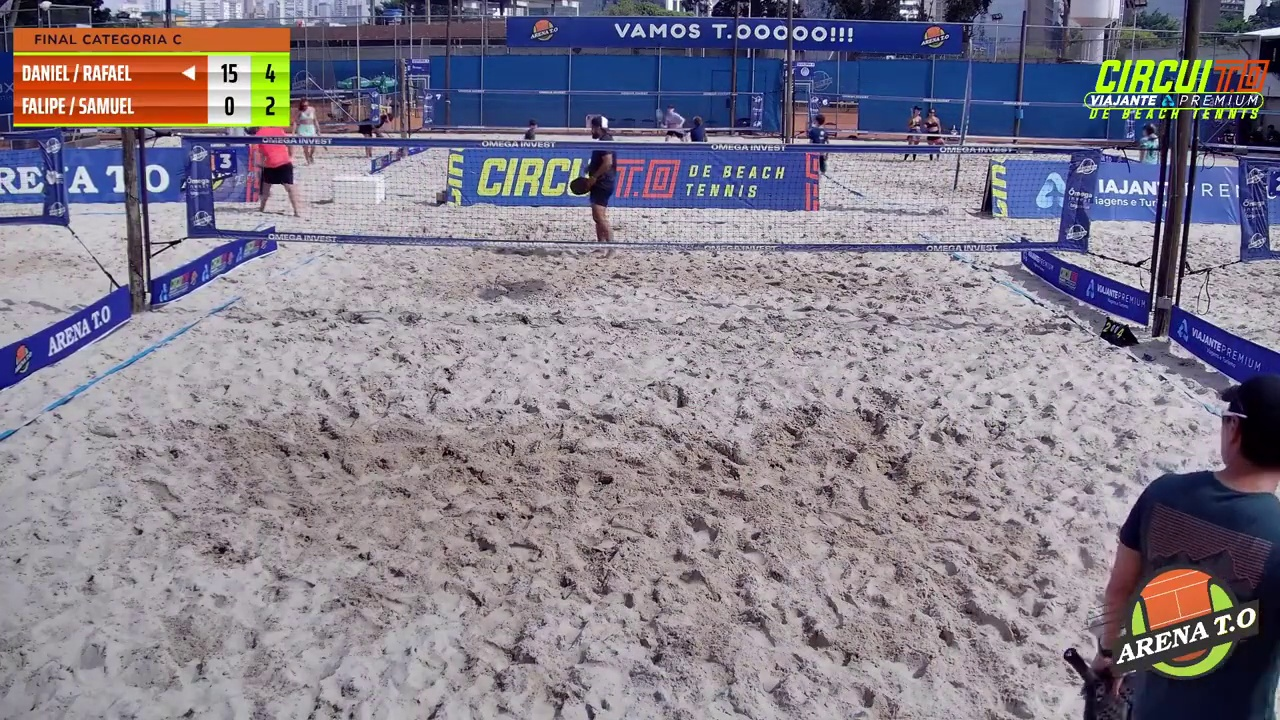court_line: (639, 0, 797, 352)
